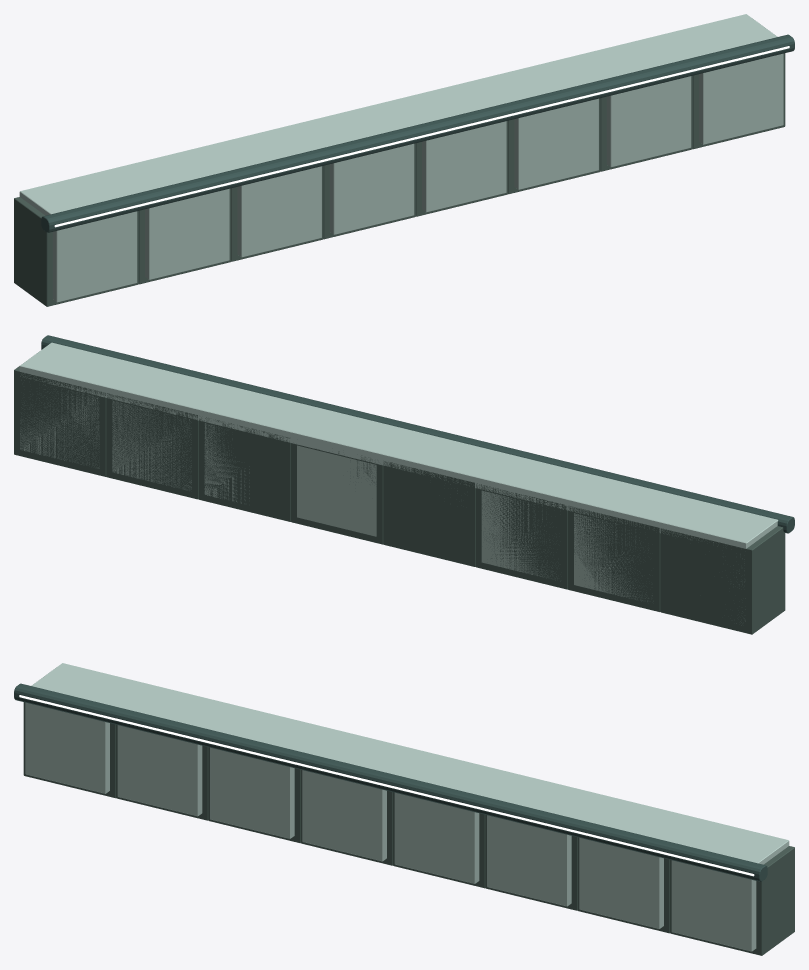
Rendered from Terrain_TopRun8LR.gltf.
The picture shows the model from 3 angles, top to bottom: view 1: azimuth 30°, elevation 25°; view 2: azimuth 150°, elevation 25°; view 3: azimuth 330°, elevation 25°; orthographic projection.
Visible parts, largest first — view 1: Terrain_TopRun8LR_baked; view 2: Terrain_TopRun8LR_baked; view 3: Terrain_TopRun8LR_baked.
Boxes of the visible parts, x1,y1,x2,y2 form: Terrain_TopRun8LR_baked: (14,14,794,306); Terrain_TopRun8LR_baked: (14,335,794,634); Terrain_TopRun8LR_baked: (14,663,794,955).
Size of the model in its own units: 8.08 by 0.9495 by 0.74.
